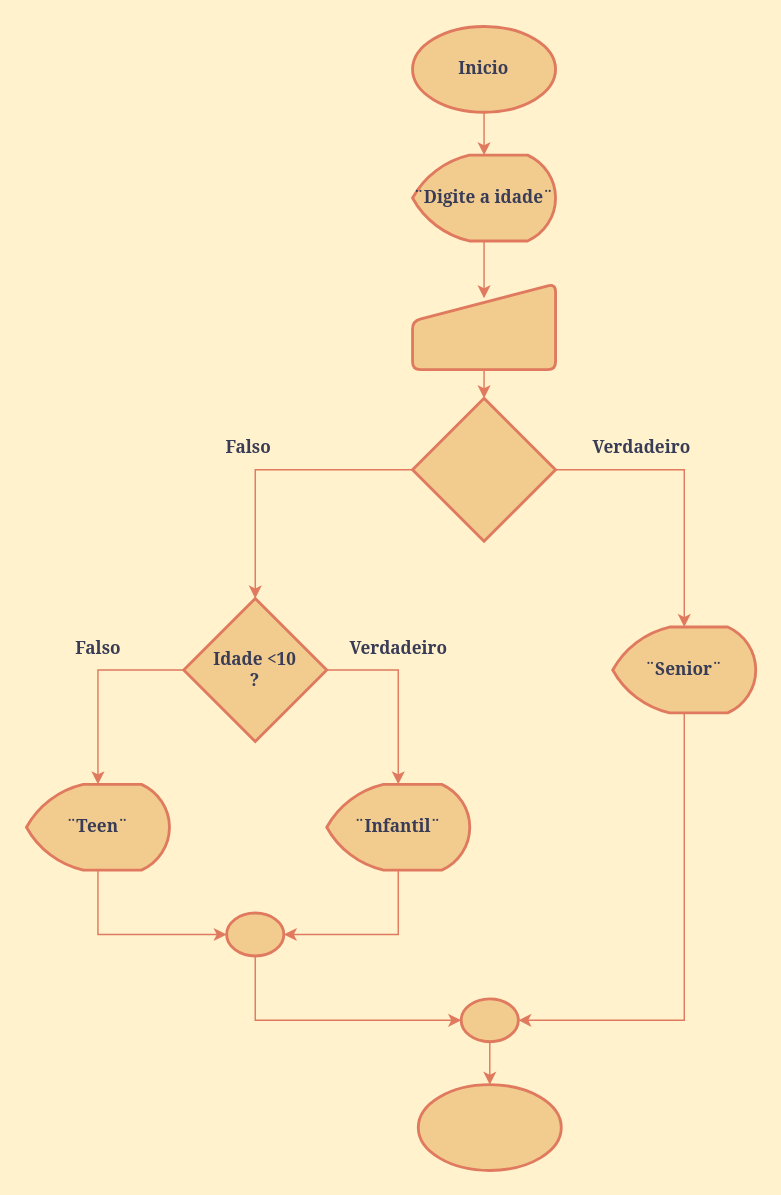
Image size: 781x1195. Some labels were removed from this diagram. Each missing label, with the centre of its shape:
Fim: the point at 489,1127
Idade (int): the point at 483,326
Idade >= 18 ?: the point at 483,469
